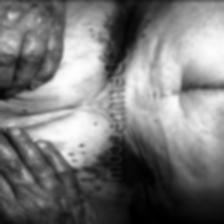Toxin: (67, 141, 105, 189), (96, 10, 146, 44), (124, 144, 159, 186)
